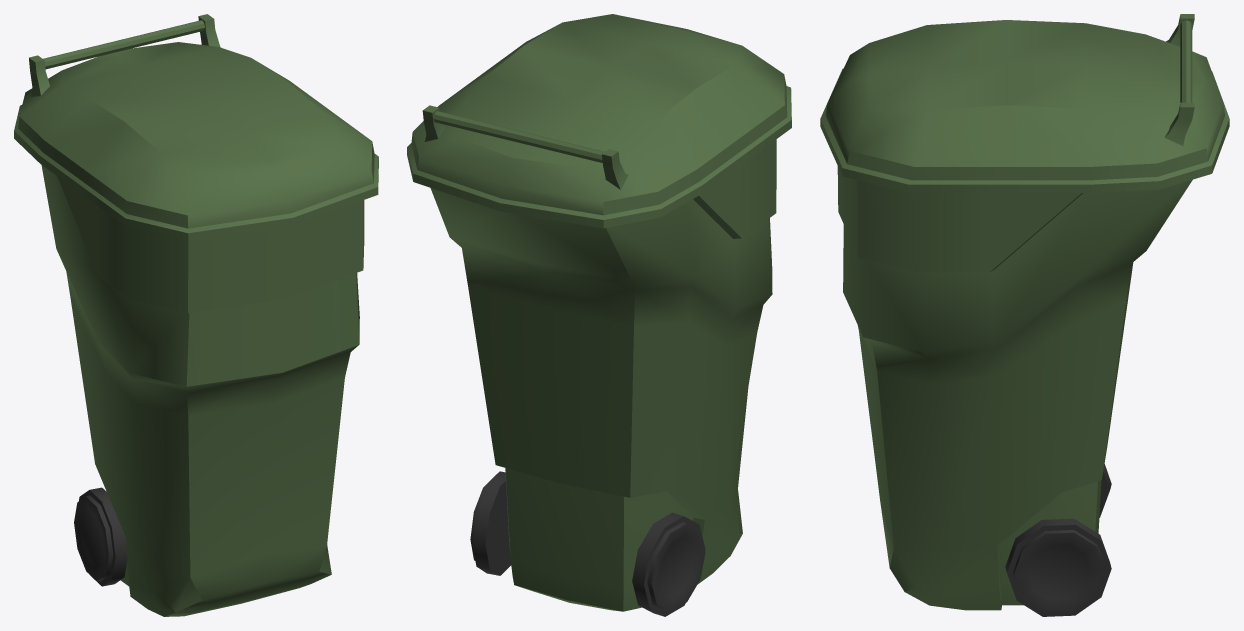
The model's file is RecycleBox.gltf.
3 views of the same model, side by side, from view 1: azimuth 30°, elevation 25°; view 2: azimuth 150°, elevation 25°; view 3: azimuth 270°, elevation 25° (orthographic). The views are drawn at different scales.
Visible parts, largest first — view 1: Trashcan_Green; view 2: Trashcan_Green; view 3: Trashcan_Green.
Boxes of the visible parts, left/top/right/bottom form: Trashcan_Green: left=14, top=14, right=378, bottom=616; Trashcan_Green: left=407, top=14, right=791, bottom=616; Trashcan_Green: left=820, top=14, right=1229, bottom=616.
Bounding box in the file's own units: 1.22 × 2.21 × 1.59.
